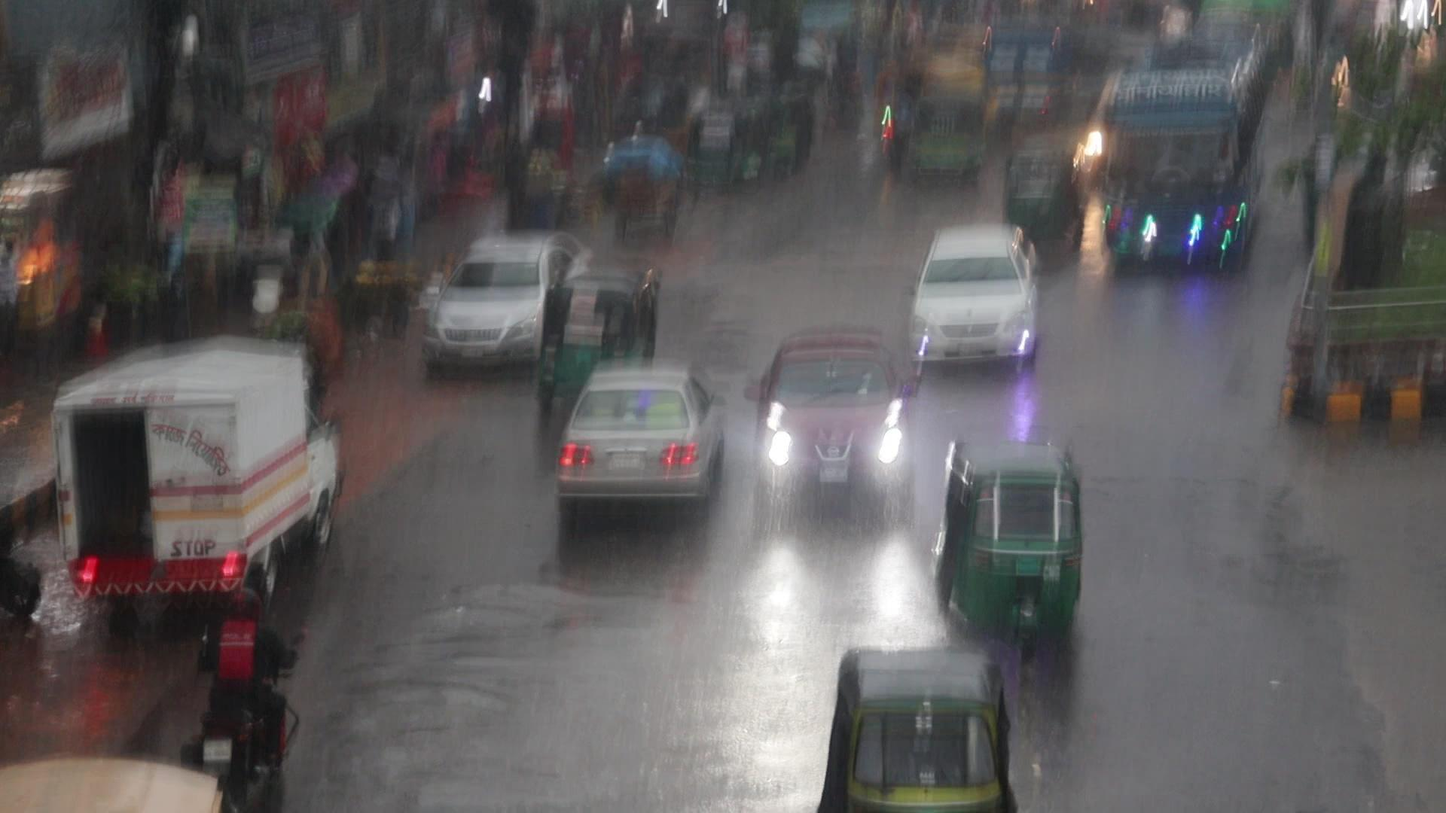Car: (744, 326, 922, 526), (552, 359, 728, 519), (906, 223, 1043, 371)
